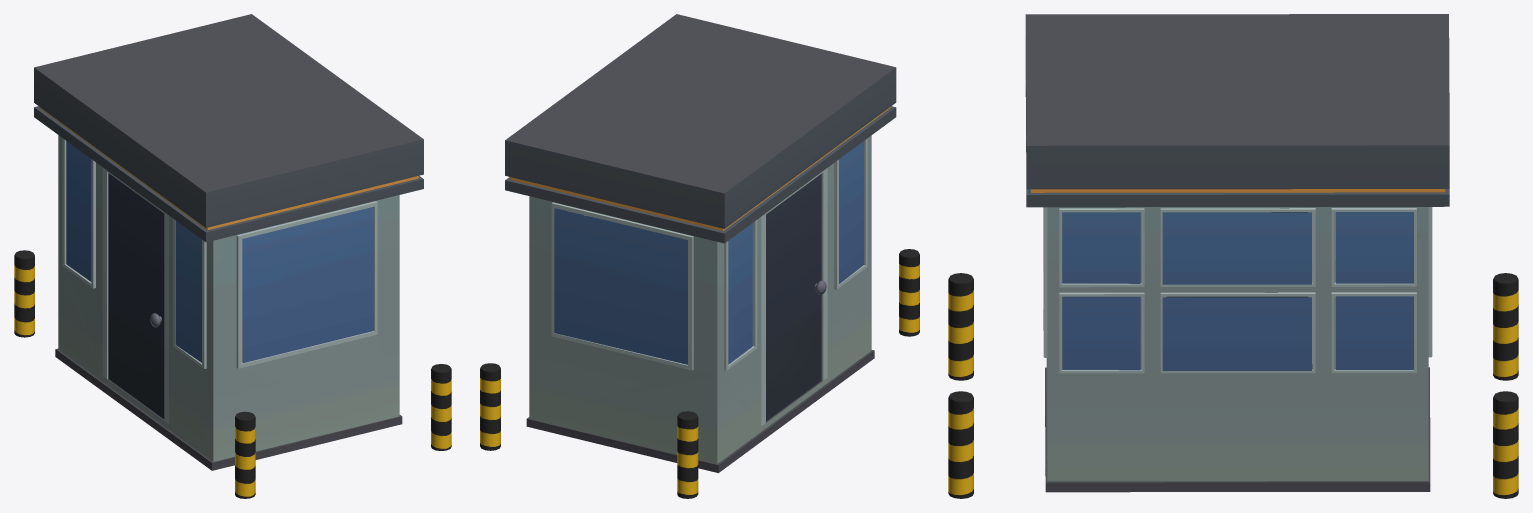
The model's file is Security Cabin.fbx.
3 renders of one model, left to right at view 1: azimuth 30°, elevation 25°; view 2: azimuth 150°, elevation 25°; view 3: azimuth 270°, elevation 25°, orthographic. The views are drawn at different scales.
Visible parts, largest first — view 1: Security_Cabin; view 2: Security_Cabin; view 3: Security_Cabin.
Boxes of the visible parts, x1=… form: Security_Cabin: x1=14, y1=14, x2=451, y2=498; Security_Cabin: x1=480, y1=14, x2=919, y2=498; Security_Cabin: x1=948, y1=14, x2=1518, y2=498.
Size of the model in its own units: 143 by 179 by 261.
